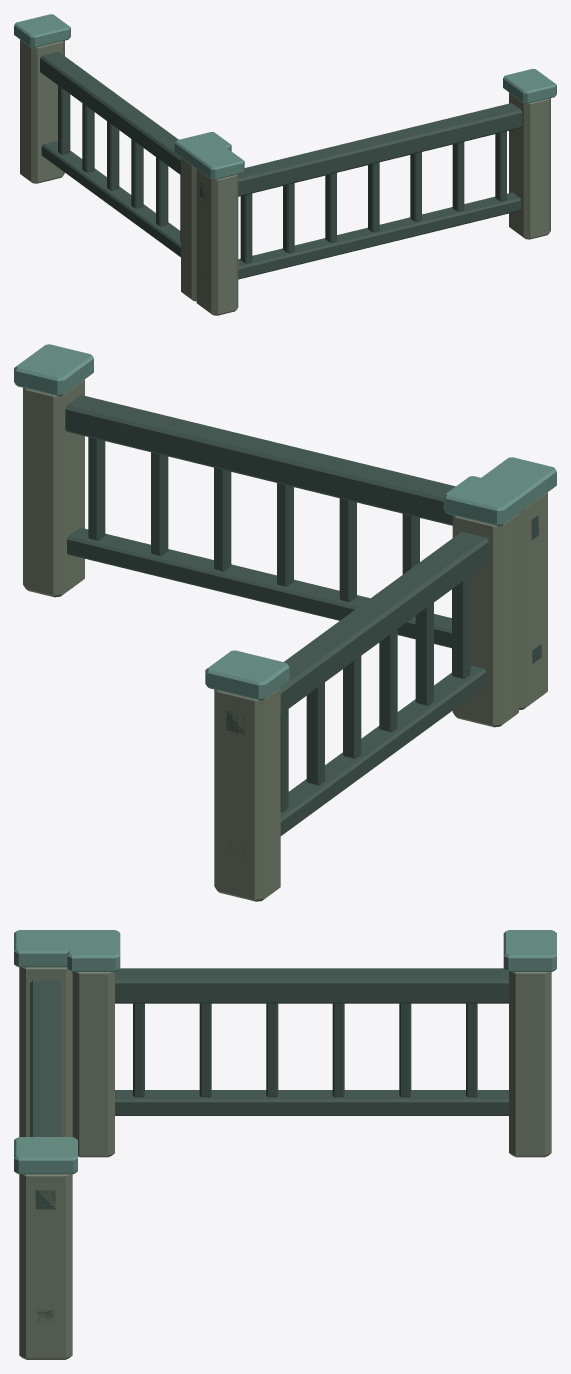
The model's file is railing-corner.glb.
3 views of the same model, one above another, from view 1: azimuth 30°, elevation 25°; view 2: azimuth 150°, elevation 25°; view 3: azimuth 270°, elevation 25° (orthographic). The views are drawn at different scales.
Parts seen in each view (by area): view 1: railing-corner__body; view 2: railing-corner__body; view 3: railing-corner__body.
Part boxes in pixels (x1,y1,x2,y2): railing-corner__body: (14,14,556,315); railing-corner__body: (14,344,556,901); railing-corner__body: (14,930,556,1359).
Size of the model in its own units: 2.04 by 0.85 by 2.04.
